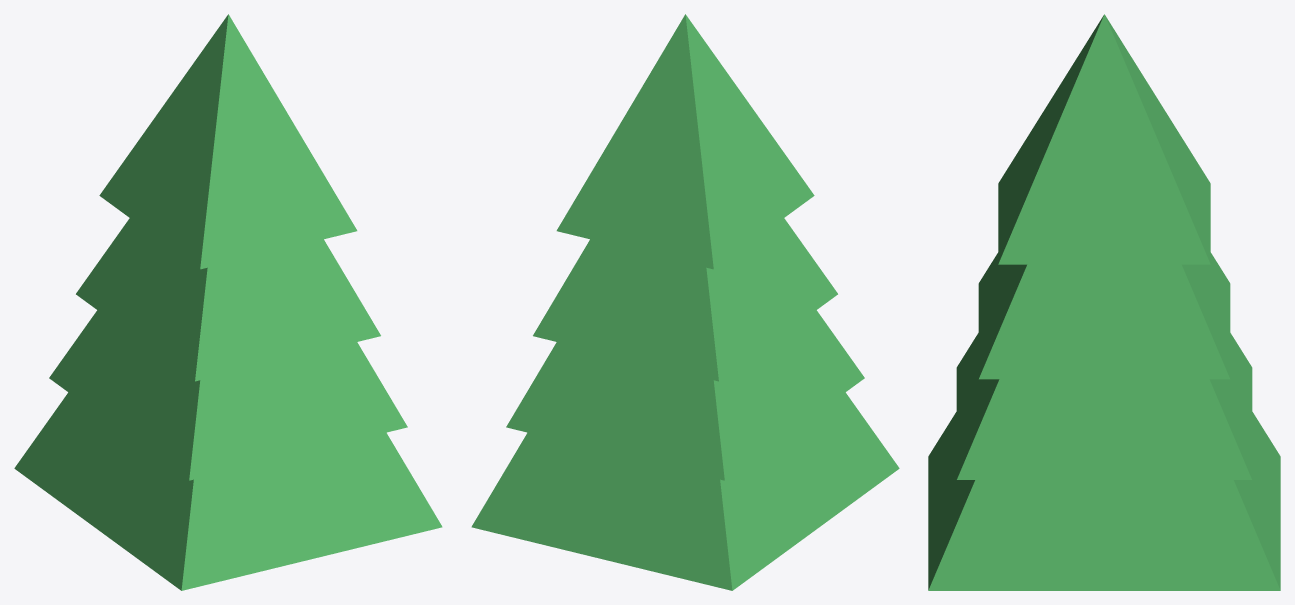
The model's file is spruce.fbx.
3 renders of one model, left to right at view 1: azimuth 30°, elevation 25°; view 2: azimuth 150°, elevation 25°; view 3: azimuth 270°, elevation 25°, orthographic. The views are drawn at different scales.
Parts seen in each view (by area): view 1: spruce; view 2: spruce; view 3: spruce.
Part boxes in pixels (x1,y1,x2,y2): spruce: (14,14,442,590); spruce: (471,14,899,590); spruce: (928,14,1280,590).
Bounding box in the file's own units: 272 × 482 × 302.
